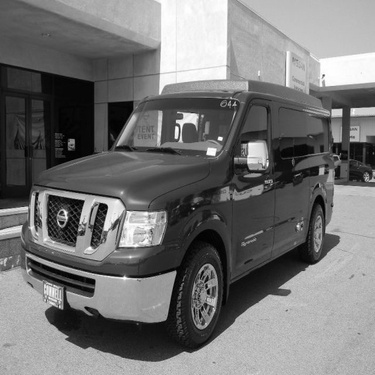car: (12, 76, 353, 339)
